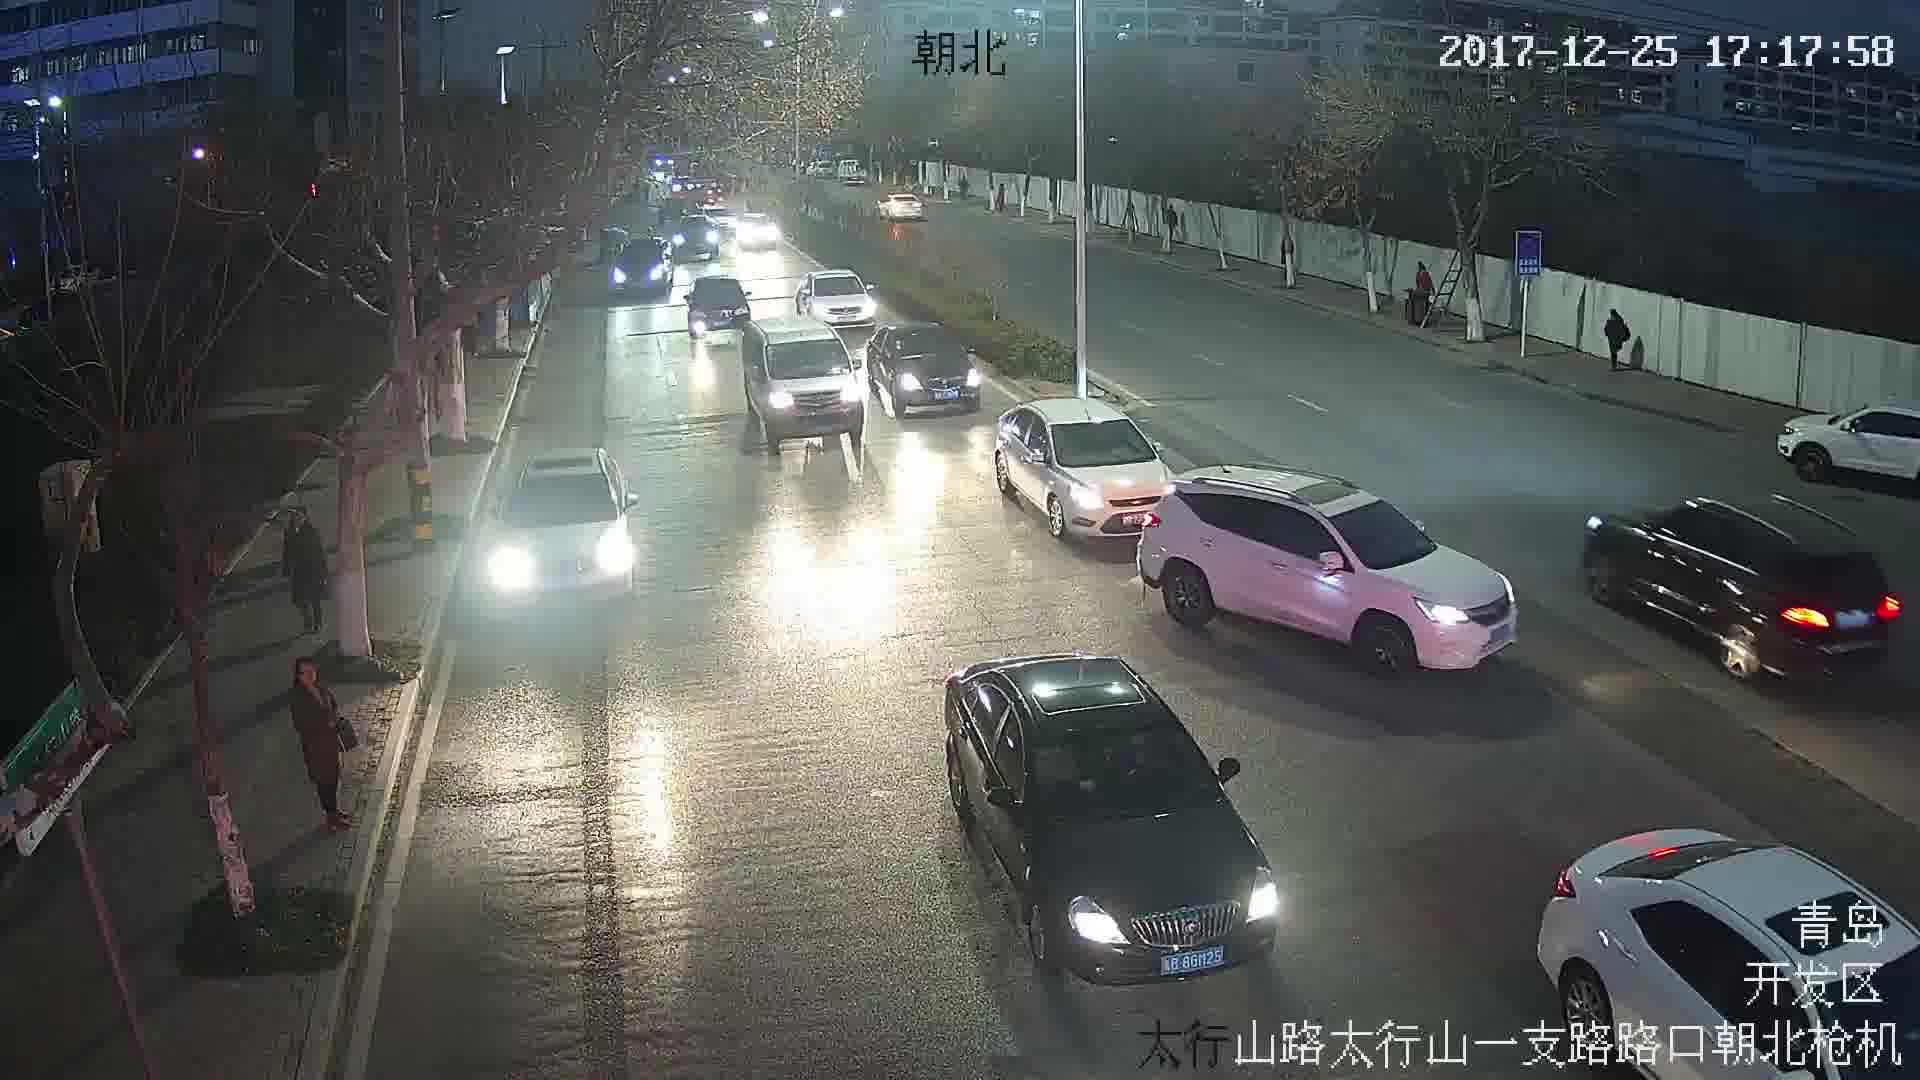car: (937, 653, 1285, 984), (1141, 460, 1521, 675), (1588, 494, 1898, 681), (995, 398, 1178, 539), (498, 453, 639, 614), (732, 320, 860, 434), (878, 319, 984, 414), (800, 273, 880, 325), (689, 274, 750, 337), (617, 230, 670, 302)
person: (292, 663, 360, 832), (274, 509, 327, 628), (1602, 306, 1630, 369), (1407, 262, 1437, 316)
